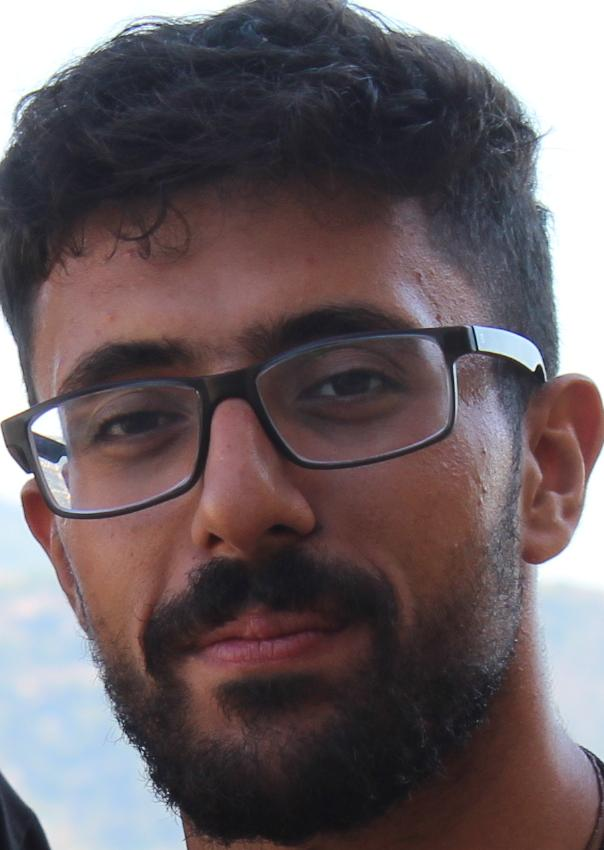face: (3, 20, 604, 824)
